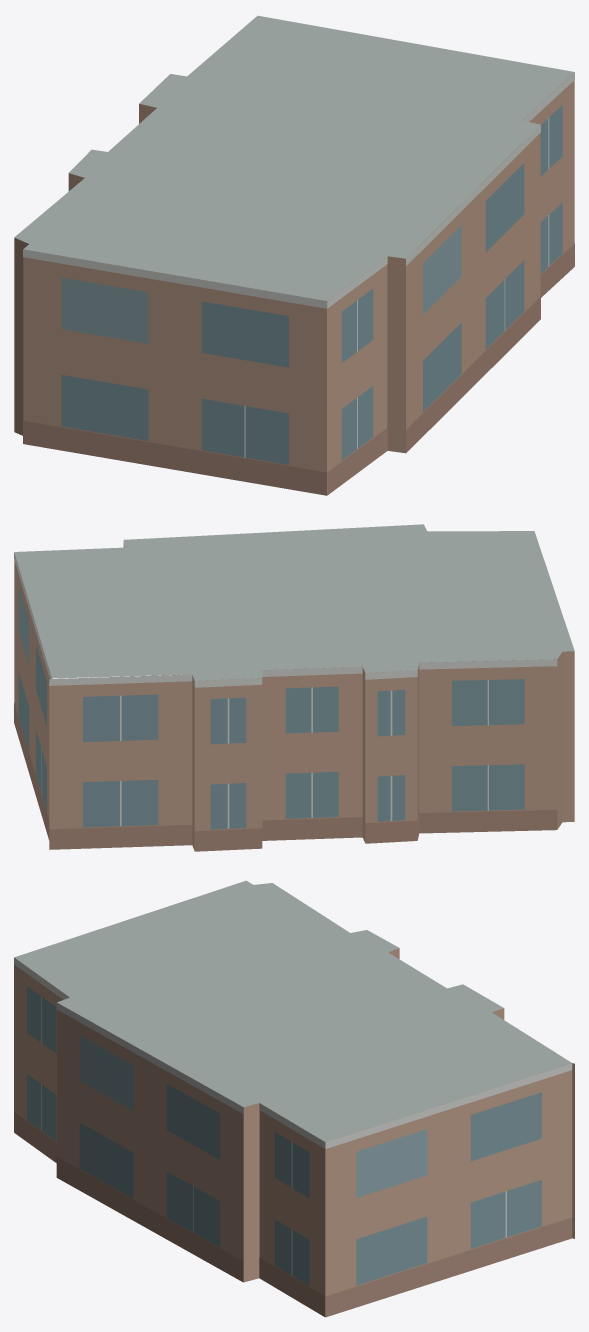
File: survey-upis-32952076.glb
3 renders of one model, top to bottom at view 1: azimuth 30°, elevation 25°; view 2: azimuth 150°, elevation 25°; view 3: azimuth 270°, elevation 25°, orthographic. The views are drawn at different scales.
Visible parts, largest first — view 1: survey-upis-32952076.tmp; view 2: survey-upis-32952076.tmp; view 3: survey-upis-32952076.tmp.
Part boxes in pixels (x1,y1,x2,y2): survey-upis-32952076.tmp: (14, 15, 574, 495); survey-upis-32952076.tmp: (14, 524, 574, 851); survey-upis-32952076.tmp: (14, 880, 574, 1317).
Bounding box in the file's own units: 19.54 × 6.1 × 17.7.
